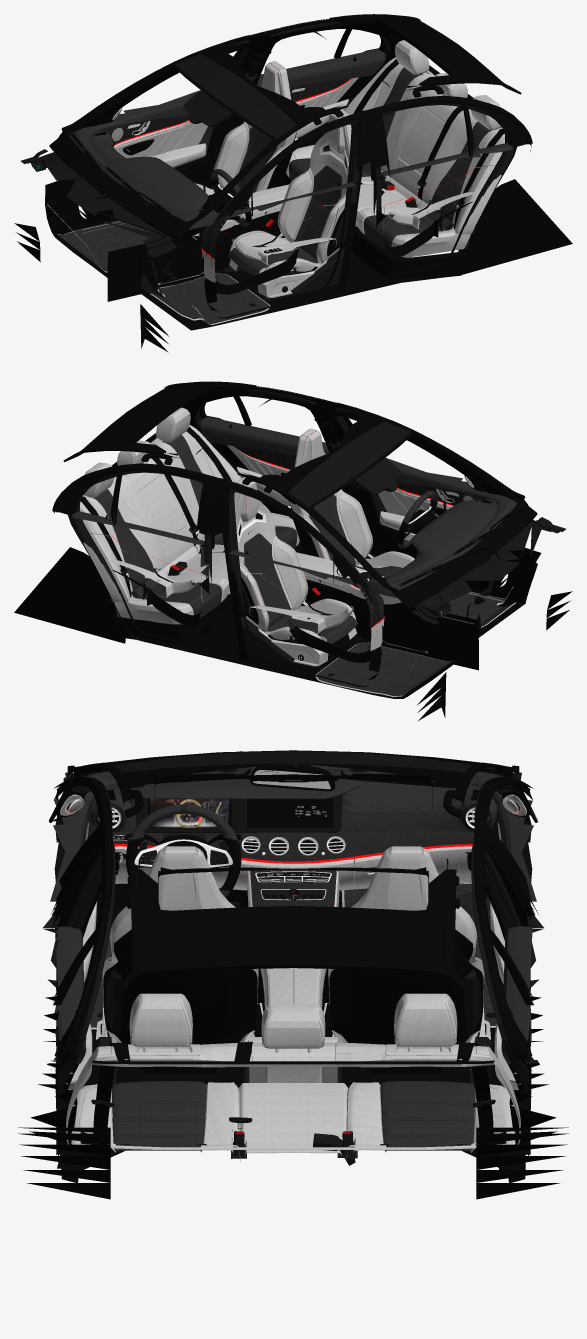
File: amg-interior.glb
3 views of the same model, one above another, from view 1: azimuth 30°, elevation 25°; view 2: azimuth 150°, elevation 25°; view 3: azimuth 270°, elevation 25° (orthographic). The views are drawn at different scales.
Visible parts, largest first — view 1: W213 Object_77, W213 Object_19, W213 Object_79, W213 Object_81, W213 Object_75, W213 Object_57, W213 Object_13, W213 door Object_165, W213 Object_85, W213 door Object_177, W213 door Object_133, W213 door Object_151 (+14 smaller); view 2: W213 Object_77, W213 Object_79, W213 Object_19, W213 Object_81, W213 Object_75, W213 Object_57, W213 Object_13, W213 door Object_147, W213 Object_85, W213 door Object_131, W213 door Object_125, W213 door Object_181 (+13 smaller); view 3: W213 Object_77, W213 Object_19, W213 Object_81, W213 Object_79, W213 Object_75, W213 Object_57, W213 Object_83, W213 Object_13, W213 door Object_165, W213 door Object_147, W213 Object_123, W213 Object_273 (+10 smaller).
Boxes of the visible parts, x1,y1,x2,y2 form: W213 Object_77: [77, 40, 504, 297]; W213 Object_19: [45, 24, 504, 330]; W213 Object_79: [51, 67, 491, 324]; W213 Object_81: [49, 14, 521, 240]; W213 Object_75: [70, 22, 515, 301]; W213 Object_57: [14, 179, 572, 352]; W213 Object_13: [73, 21, 516, 247]; W213 door Object_165: [368, 95, 532, 214]; W213 Object_85: [21, 149, 176, 257]; W213 door Object_177: [211, 110, 374, 253]; W213 door Object_133: [113, 121, 207, 167]; W213 door Object_151: [256, 49, 385, 87]; W213 Object_77: [80, 407, 504, 666]; W213 Object_79: [93, 435, 516, 696]; W213 Object_19: [80, 391, 541, 698]; W213 Object_81: [63, 381, 537, 608]; W213 Object_75: [69, 389, 505, 669]; W213 Object_57: [14, 547, 572, 720]; W213 Object_13: [68, 389, 515, 615]; W213 door Object_147: [52, 463, 217, 582]; W213 Object_85: [412, 517, 565, 624]; W213 door Object_131: [211, 478, 374, 619]; W213 door Object_125: [199, 416, 329, 455]; W213 door Object_181: [372, 457, 485, 518]; W213 Object_77: [66, 846, 520, 1161]; W213 Object_19: [55, 765, 531, 1182]; W213 Object_81: [67, 750, 519, 998]; W213 Object_79: [84, 765, 502, 1151]; W213 Object_75: [54, 751, 532, 1165]; W213 Object_57: [18, 1127, 568, 1199]; W213 Object_83: [112, 804, 474, 906]; W213 Object_13: [81, 774, 505, 1064]; W213 door Object_165: [51, 826, 113, 1070]; W213 door Object_147: [473, 826, 535, 1070]; W213 Object_123: [98, 770, 488, 1129]; W213 Object_273: [119, 797, 333, 899].
Size of the model in its own units: 3.04 by 1.27 by 1.89.
Materials: 28 (21 with a texture image).
